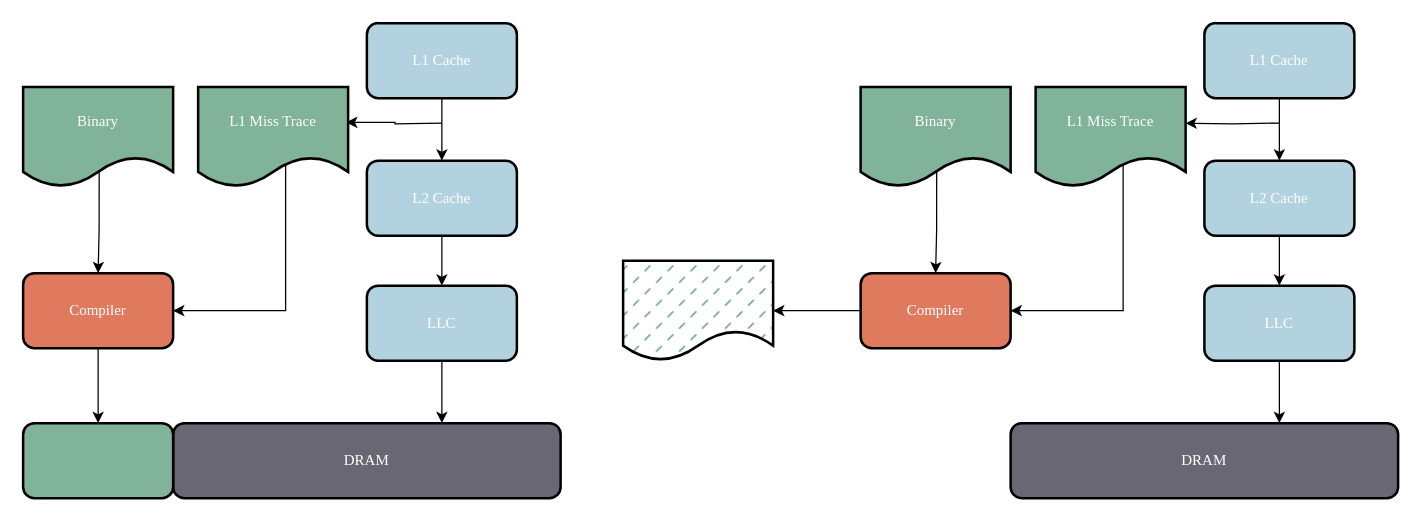
The diagram is 1420 pixels wide and 520 high, and some of its shapes have lost their labels. The shapes that lost their labels are listed below. From the top down, each one's box as (x1, y1, x2, y2) in pixels, then its label:
(621, 259, 774, 361): New Binary
(21, 421, 174, 499): Pattern Trace
